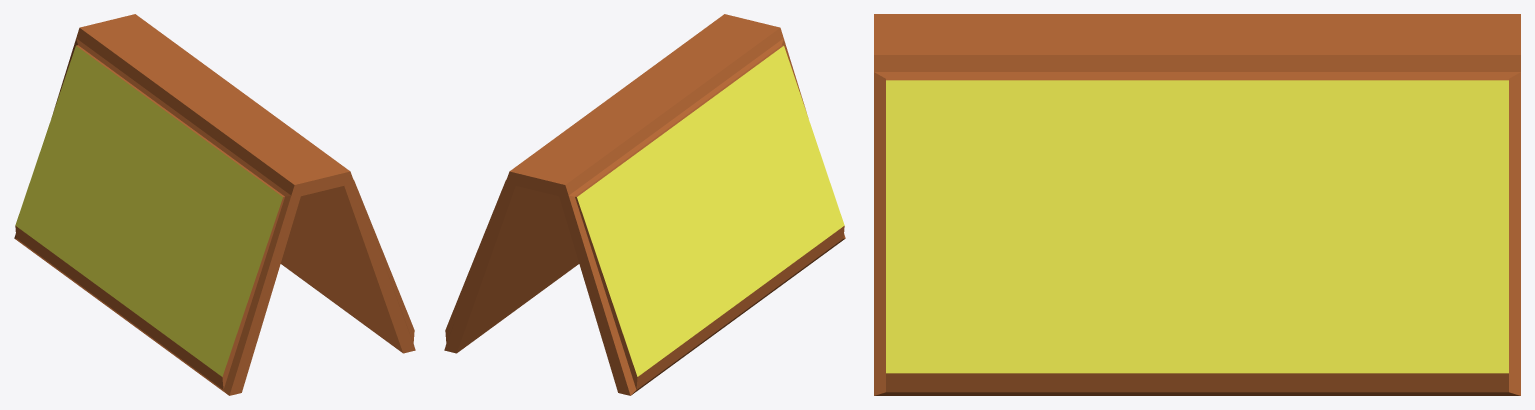
The model's file is Desk_NamePlate.fbx.
3 views of the same model, side by side, from view 1: azimuth 30°, elevation 25°; view 2: azimuth 150°, elevation 25°; view 3: azimuth 270°, elevation 25° (orthographic). The views are drawn at different scales.
Parts seen in each view (by area): view 1: Cube; view 2: Cube; view 3: Cube.
Part boxes in pixels (box(x1,y1,x2,y2)): Cube: box(14, 14, 415, 395); Cube: box(444, 14, 845, 395); Cube: box(874, 14, 1520, 395).
Bounding box in the file's own units: 206 × 200 × 400.
